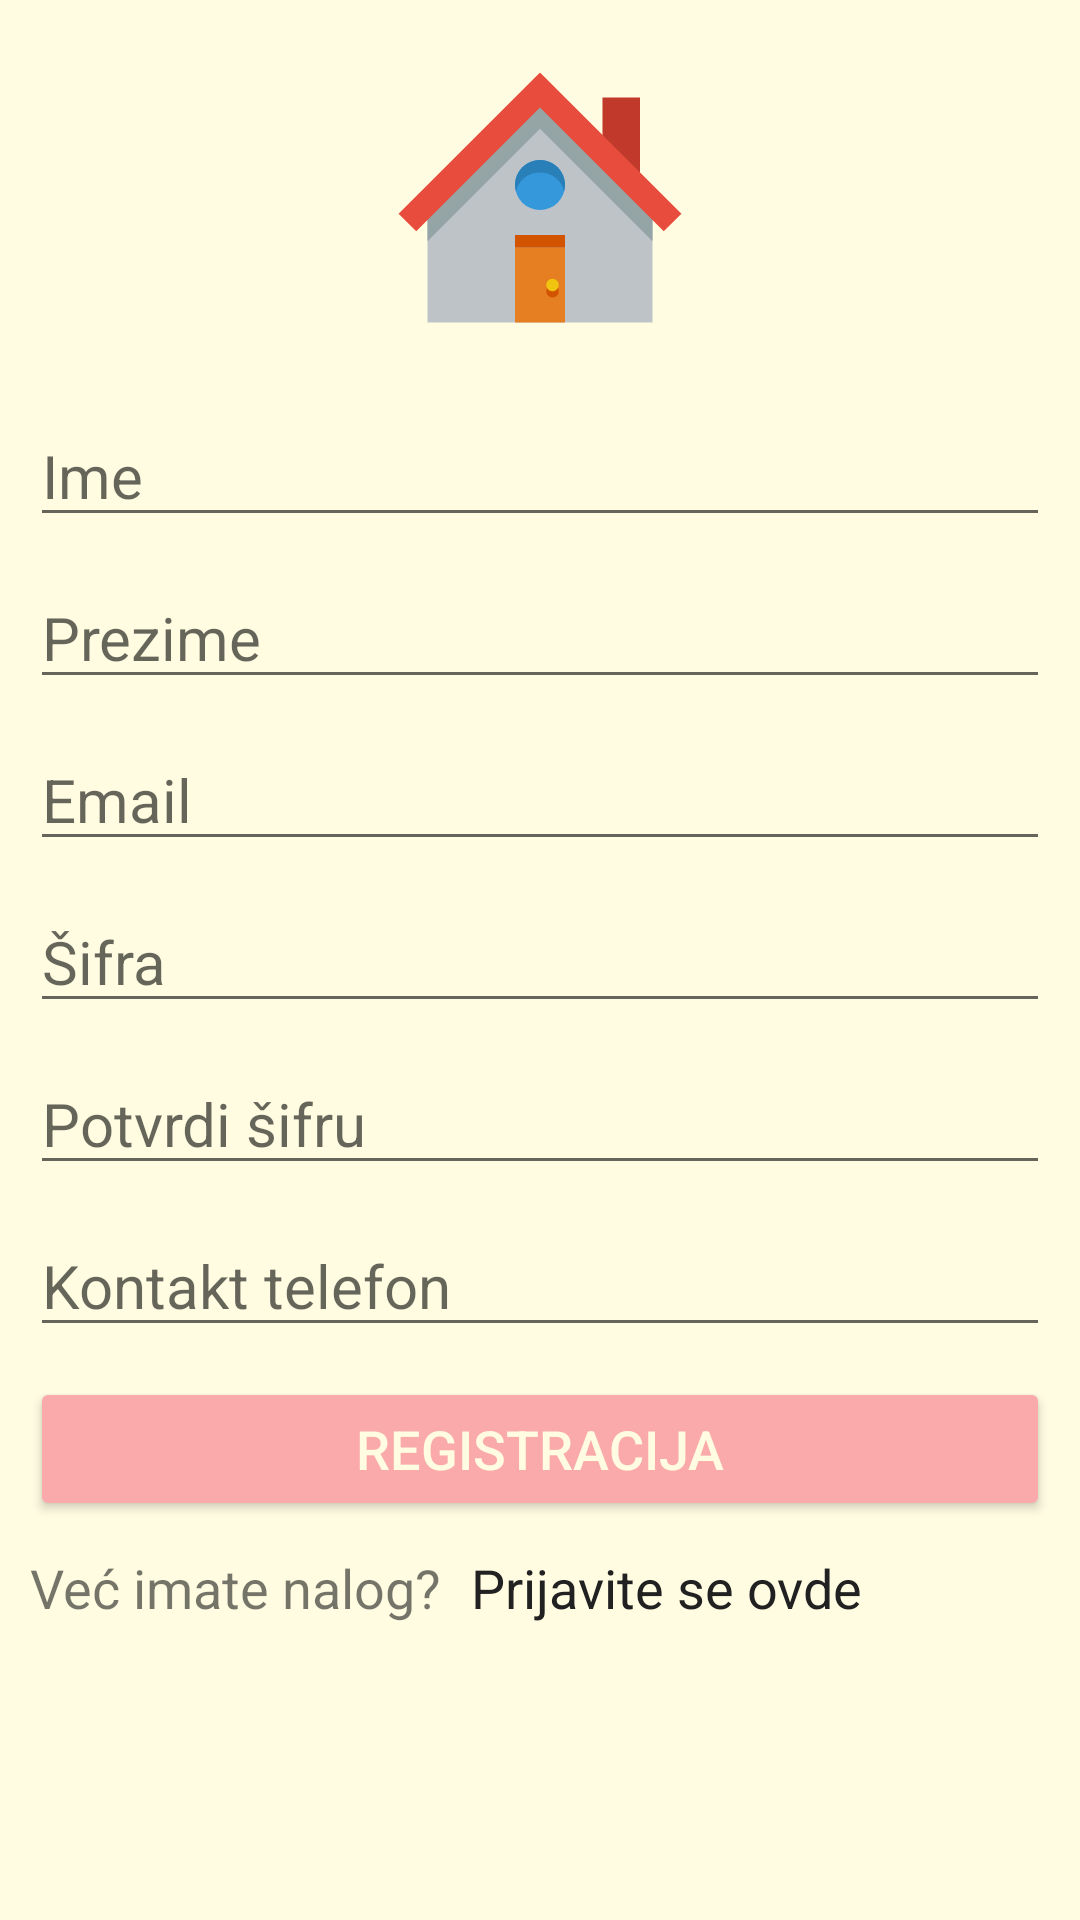

Icons on this 1080 x 1920 Android screen, each with the point to tap as point (x, y):
house: point (540, 198)
